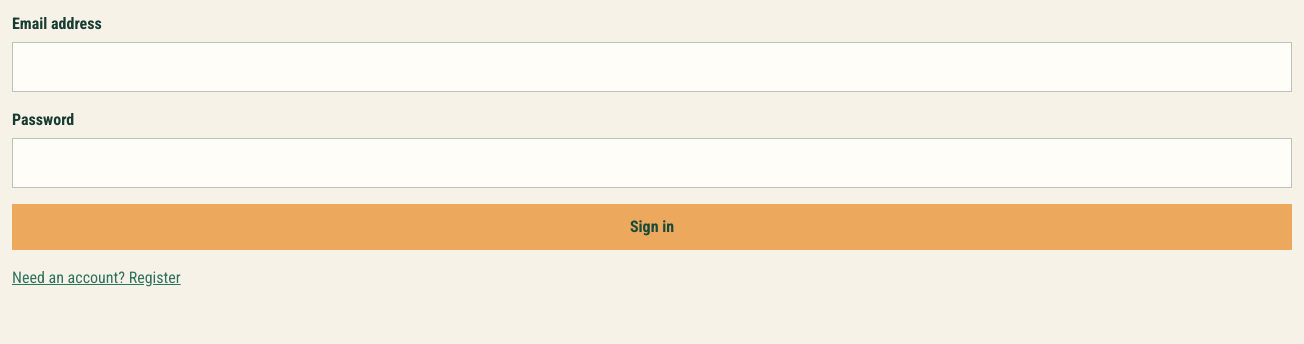
Scenario: AuthForm › keeps entered values visible and shows an error when authentication fails
Type "moss@example.com" into the field labelled "Email address".
click(652, 67); type("moss@example.com")  # box top-left (12, 42), bottom-right (1292, 92)
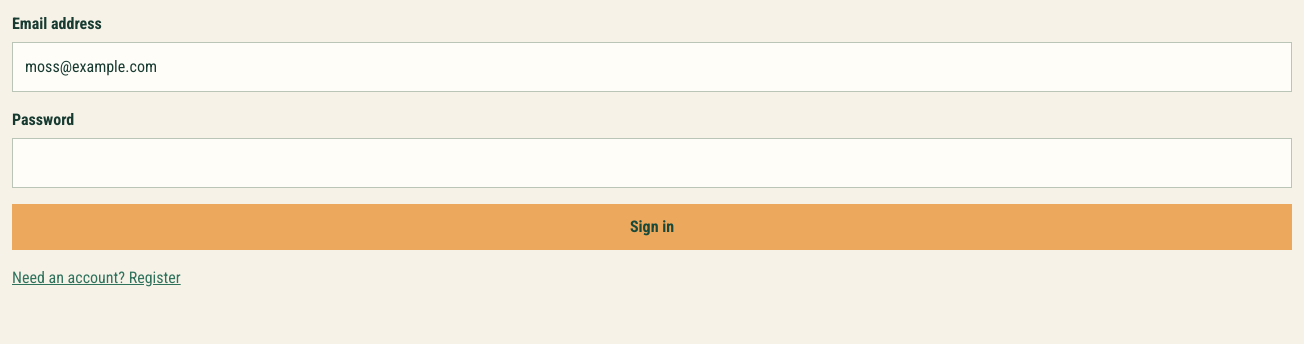
Type "wrong-password" into the password field labelled "Password".
click(652, 163); type("wrong-password")  # box top-left (12, 138), bottom-right (1292, 188)
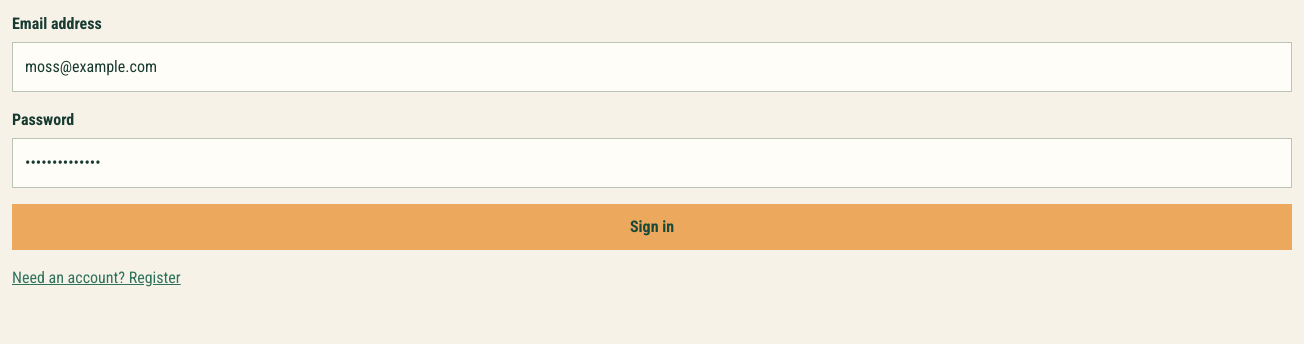
Submit the form "Sign in"
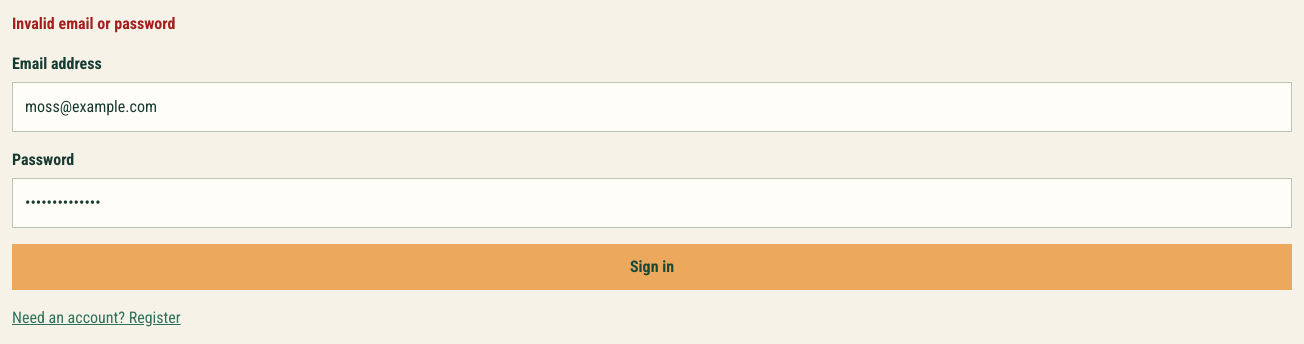
Now the message reads "Invalid email or password", box top-left (12, 14), bottom-right (175, 33)
